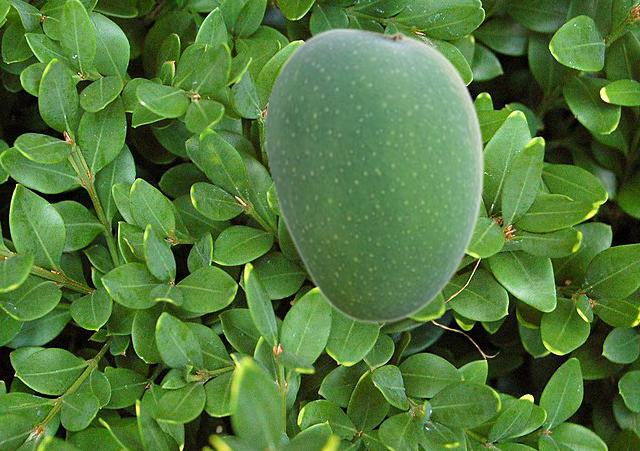green_mango: (264, 27, 484, 322)
